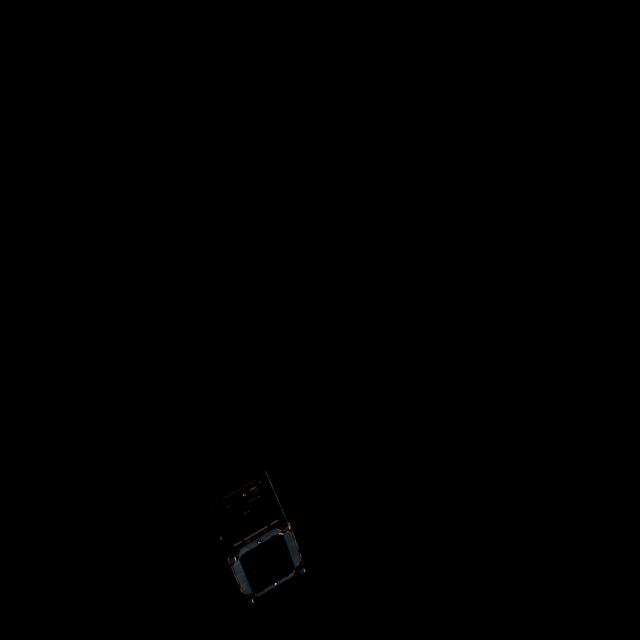medium_debris: (203, 462, 311, 611)
